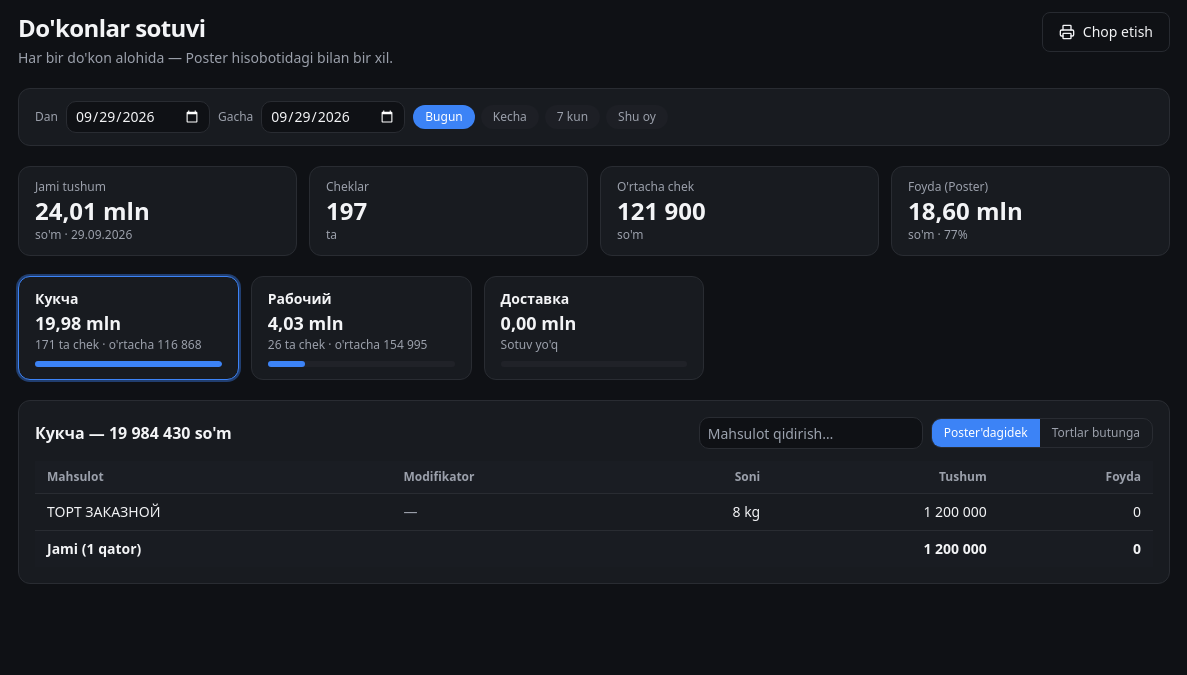
StoreSalesReportPage › switches store and shows Poster rows with their modifiers
expect the heading "Кукча — 19 984 430 so'm" is shown: met, box x1=35 y1=421 x2=232 y2=445
Click the button "Рабочий 4,03 mln 26 ta chek · o'rtacha 154 995" at (361, 328), box x1=251 y1=276 x2=472 y2=380
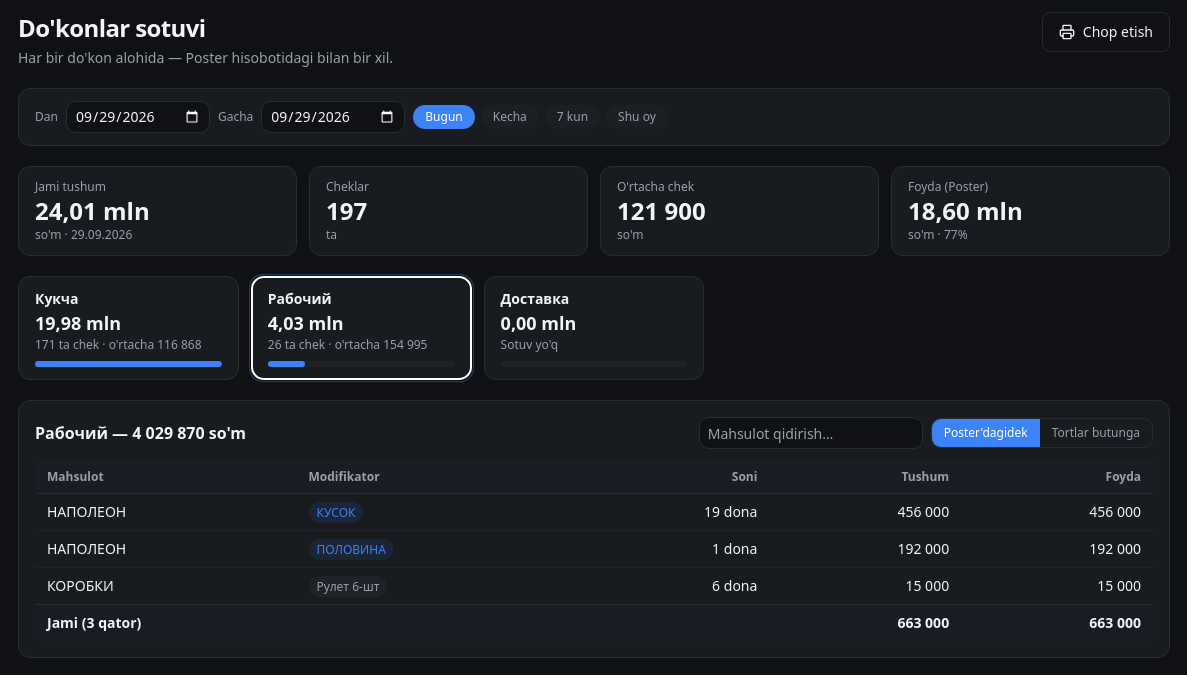
expect the text "КУСОК" is shown: met, box x1=308 y1=502 x2=363 y2=523
expect the text "Рулет 6-шт" is shown: met, box x1=308 y1=576 x2=387 y2=597
expect the text "19 dona" is shown: met, box x1=574 y1=494 x2=769 y2=530
